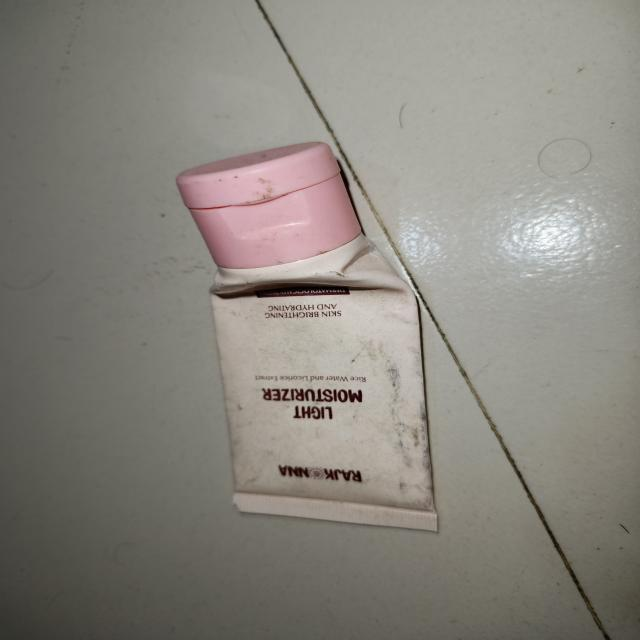Squeeze Tube: (170, 125, 468, 556)
